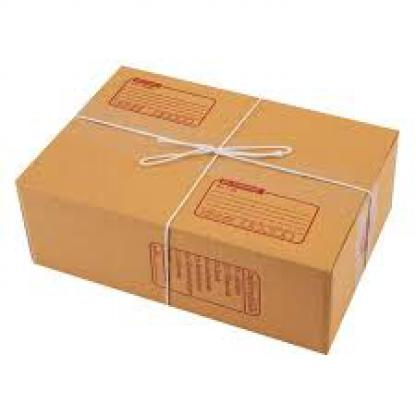paquete: (13, 29, 403, 357)
